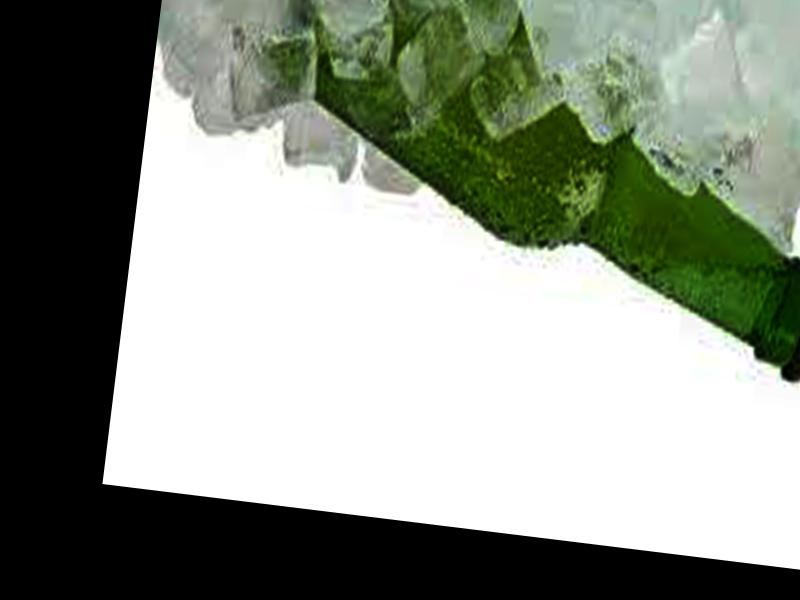Beer: (245, 17, 800, 381)
